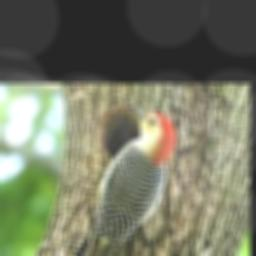Woodpecker: (60, 104, 176, 256)
